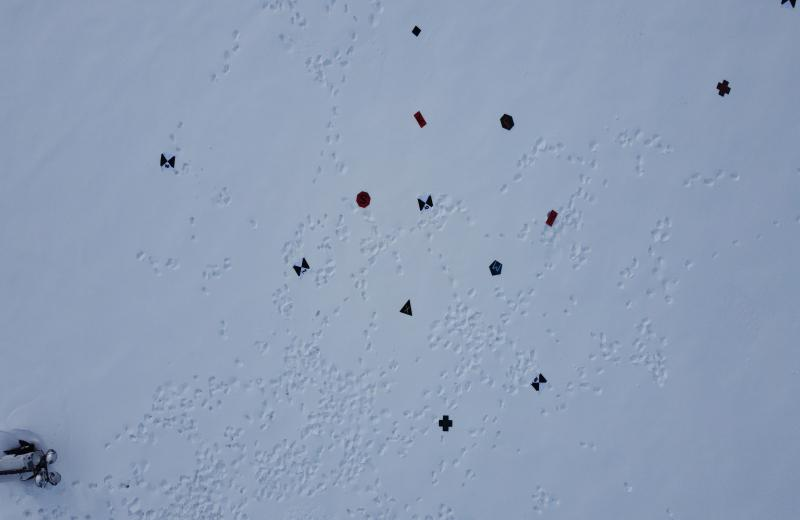Cross: (438, 415, 453, 432), (717, 79, 731, 97)
Hexagon: (500, 114, 515, 131)
Octagon: (356, 191, 371, 208)
Pentagon: (488, 260, 503, 276)
Rectangle: (413, 110, 427, 128), (545, 209, 558, 227)
Square: (412, 24, 422, 38)
Triangle: (399, 298, 413, 317)
